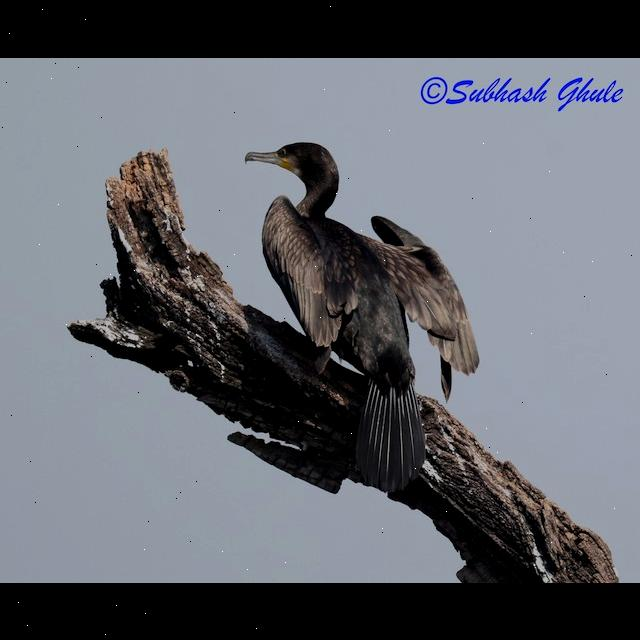cormorant: (240, 140, 480, 490)
